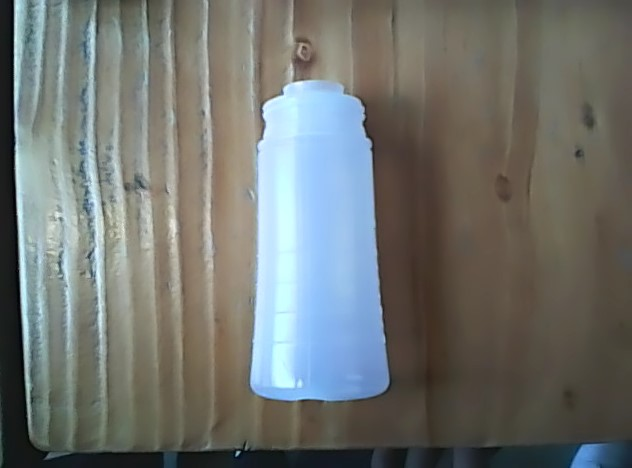Plastic: (240, 71, 397, 407)
